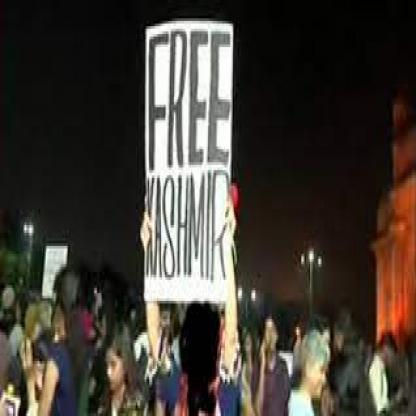BANNER: (141, 21, 235, 306)
